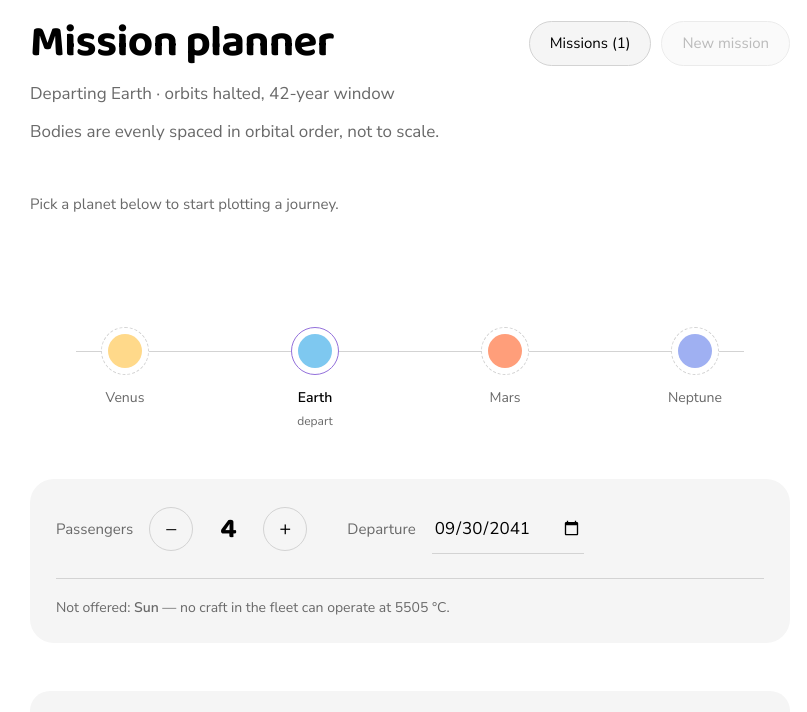
Scenario: planner screen › flags unsaved changes to a mission already saved
Click the link "Missions (1)": (590, 43) [529, 21, 652, 66]
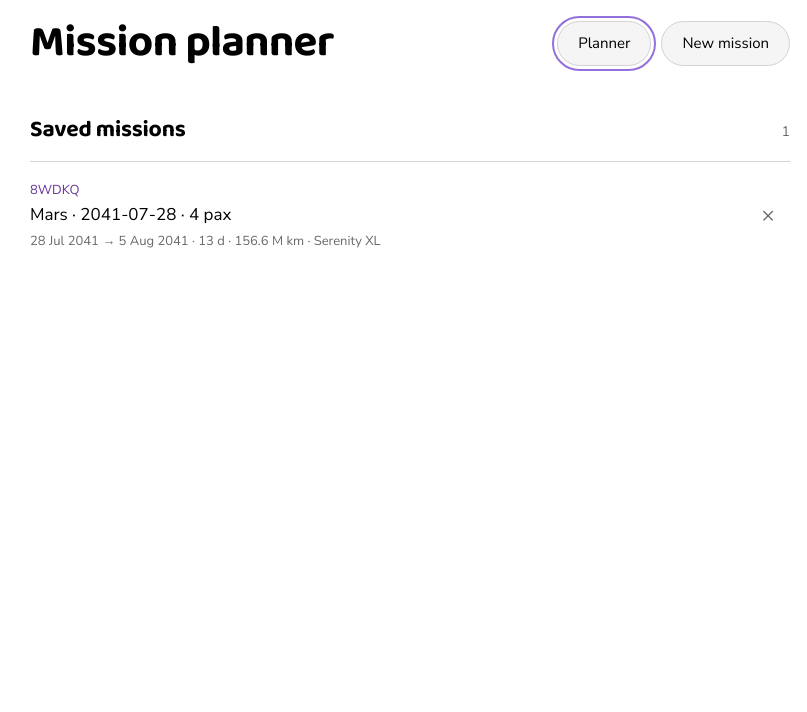
Click the button "Mars · 2041-07-28 · 4 pax": (55, 190) [16, 162, 738, 269]
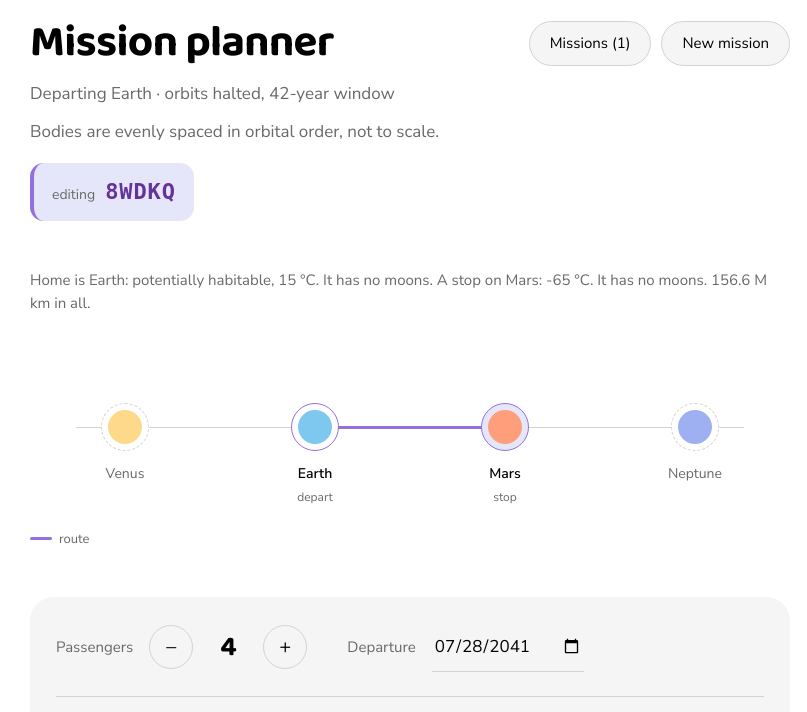
Expected: the text "unsaved changes" is not shown
Click the button named "One more passenger": (285, 648) [263, 626, 307, 670]
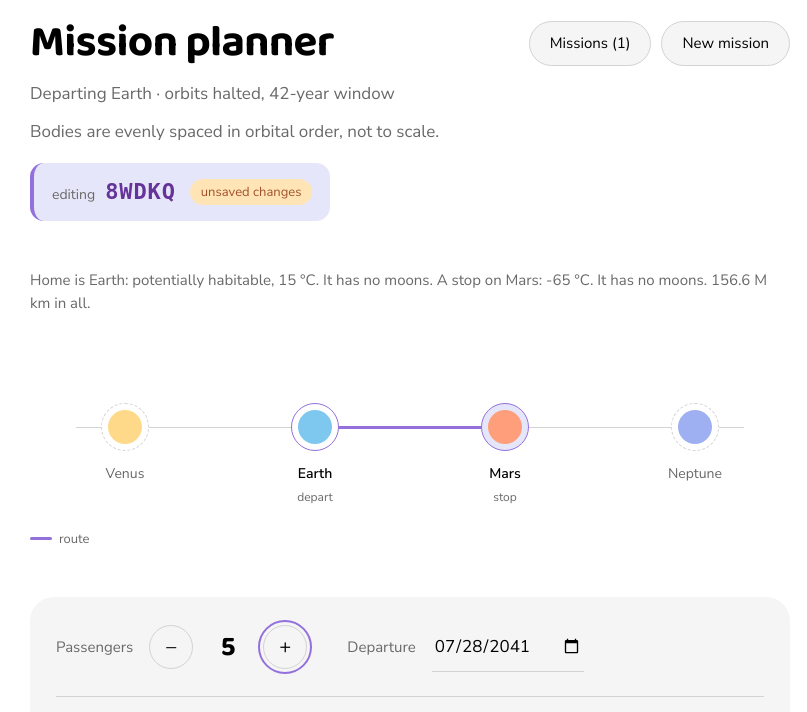
Now the text "unsaved changes" is shown, box [190, 179, 312, 205]
